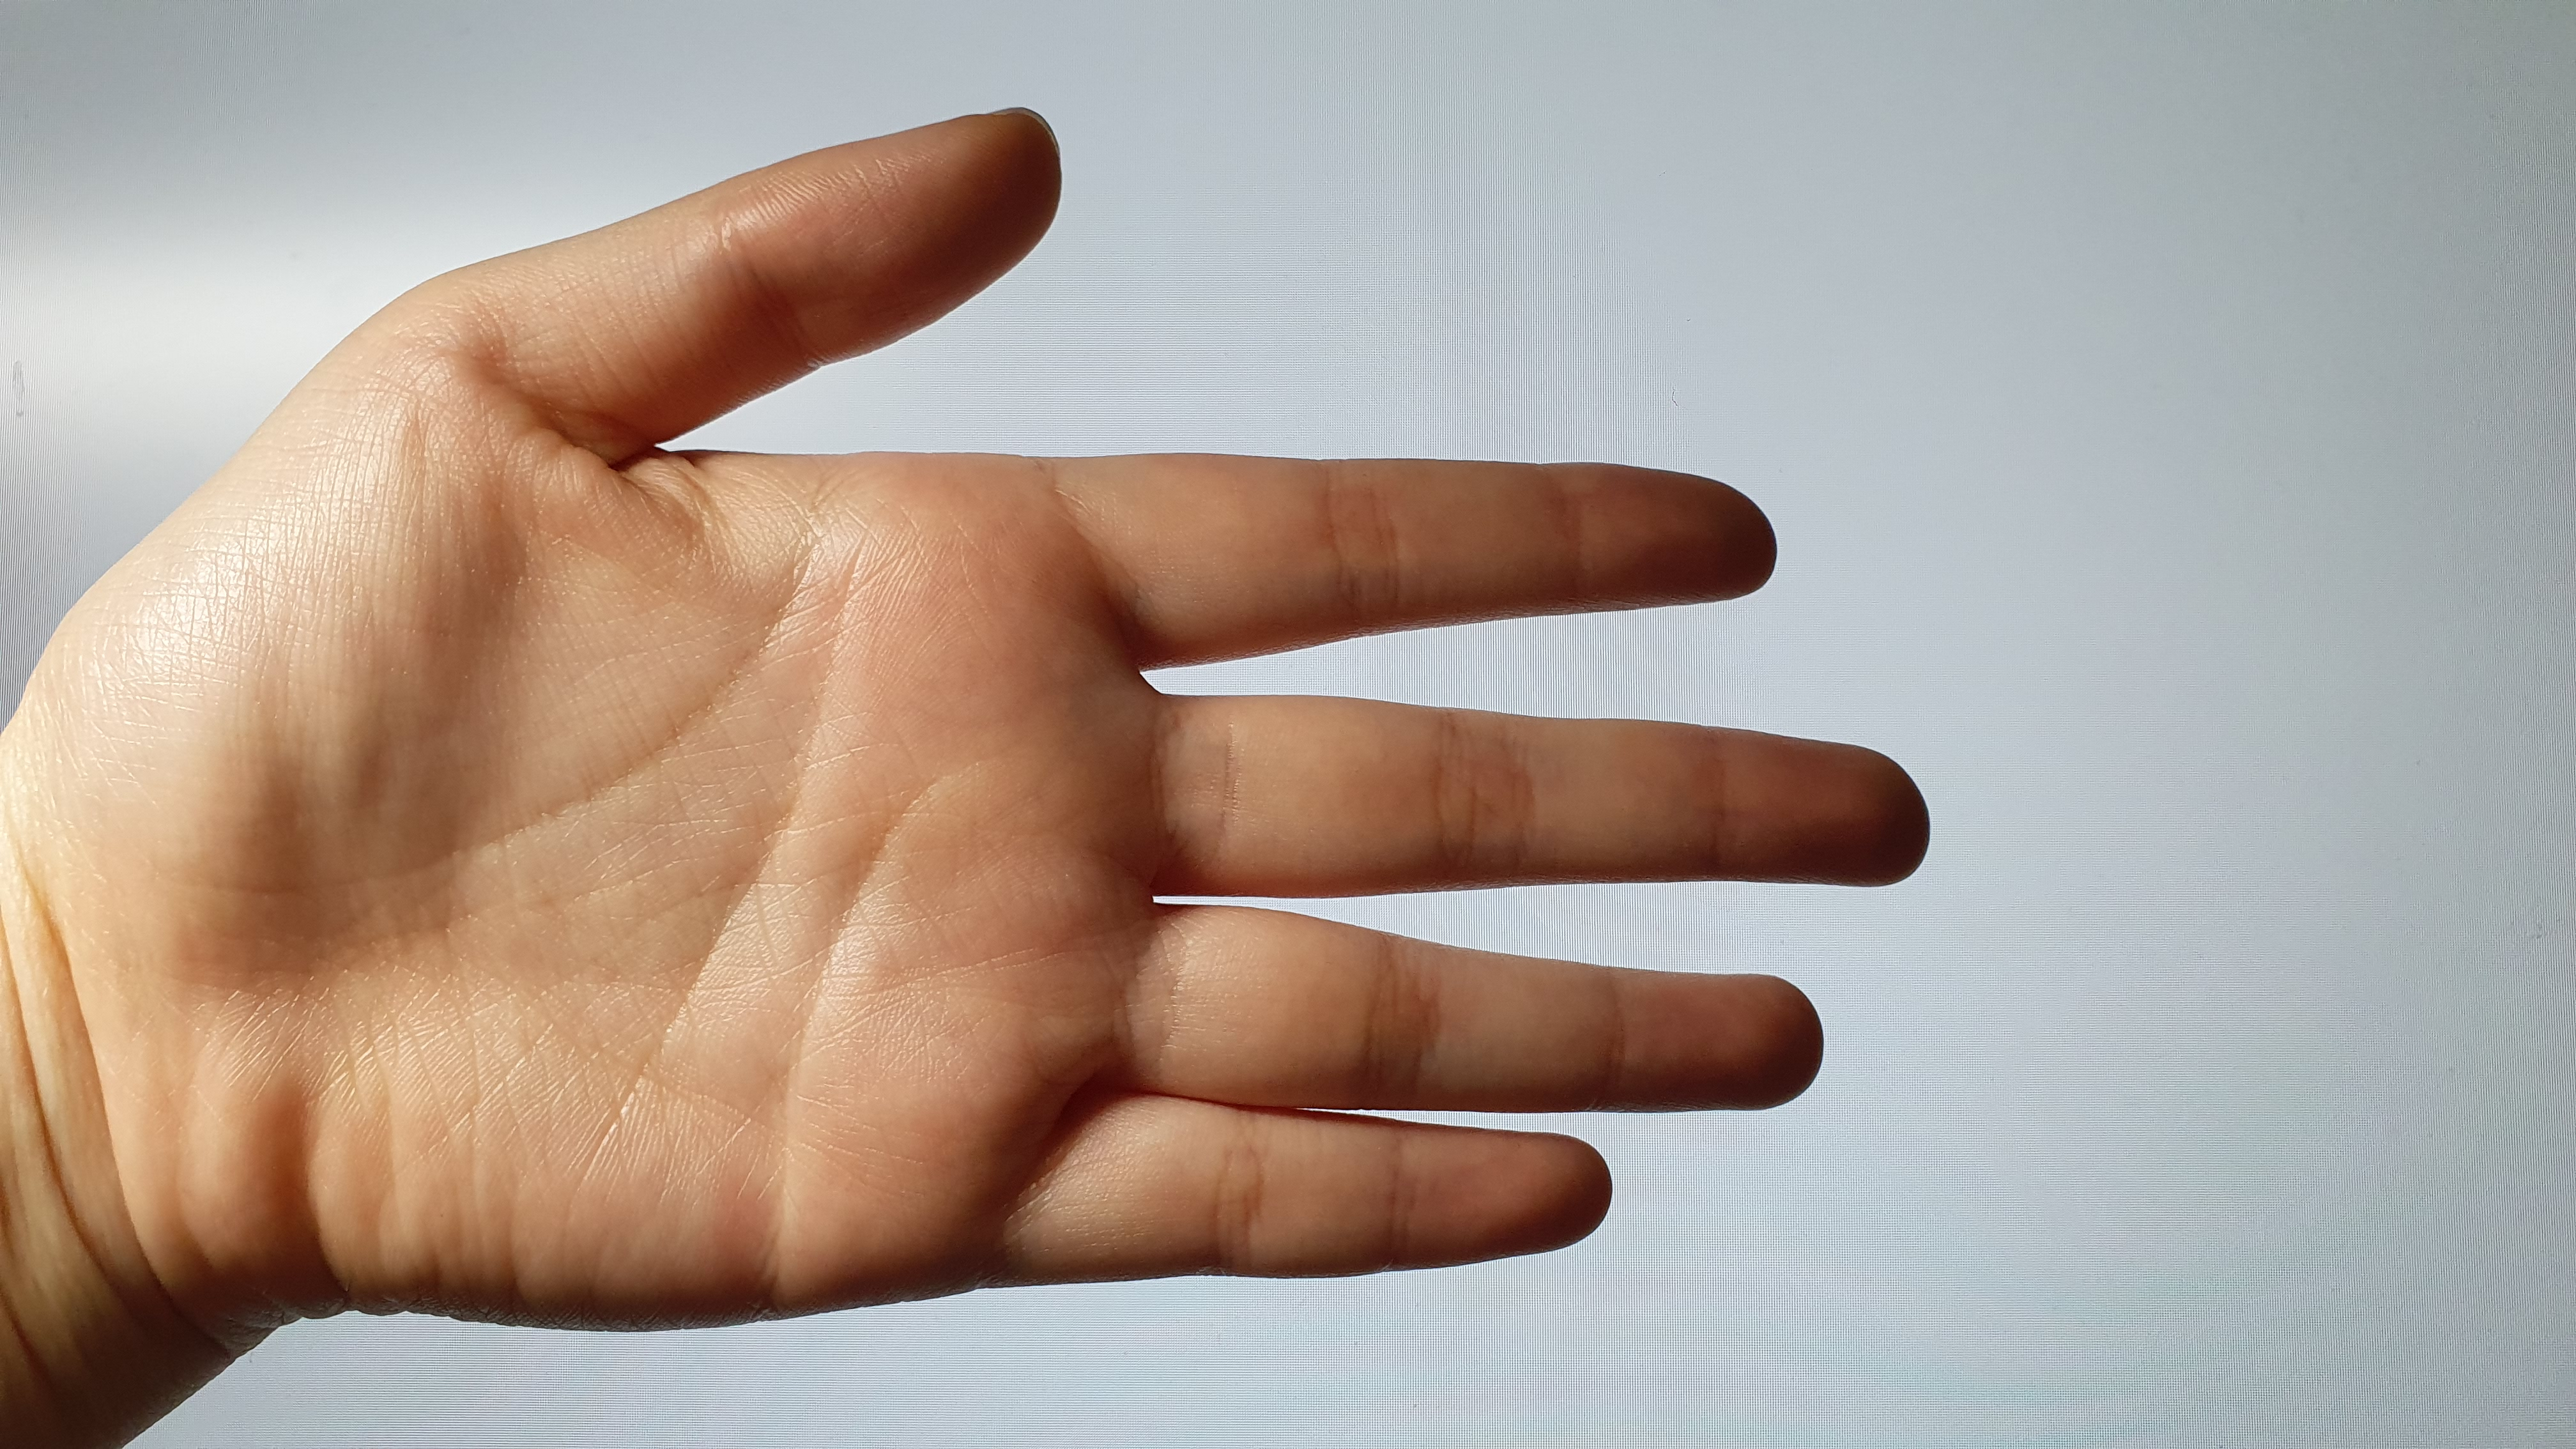hand: (119, 92, 1941, 1343)
index finger: (1044, 442, 1803, 649)
middle finger: (1134, 683, 1950, 920)
palm: (152, 421, 1125, 1316)
pinky: (1030, 1095, 1637, 1300)
ring finger: (1122, 897, 1835, 1127)
thumb: (432, 104, 1076, 451)
